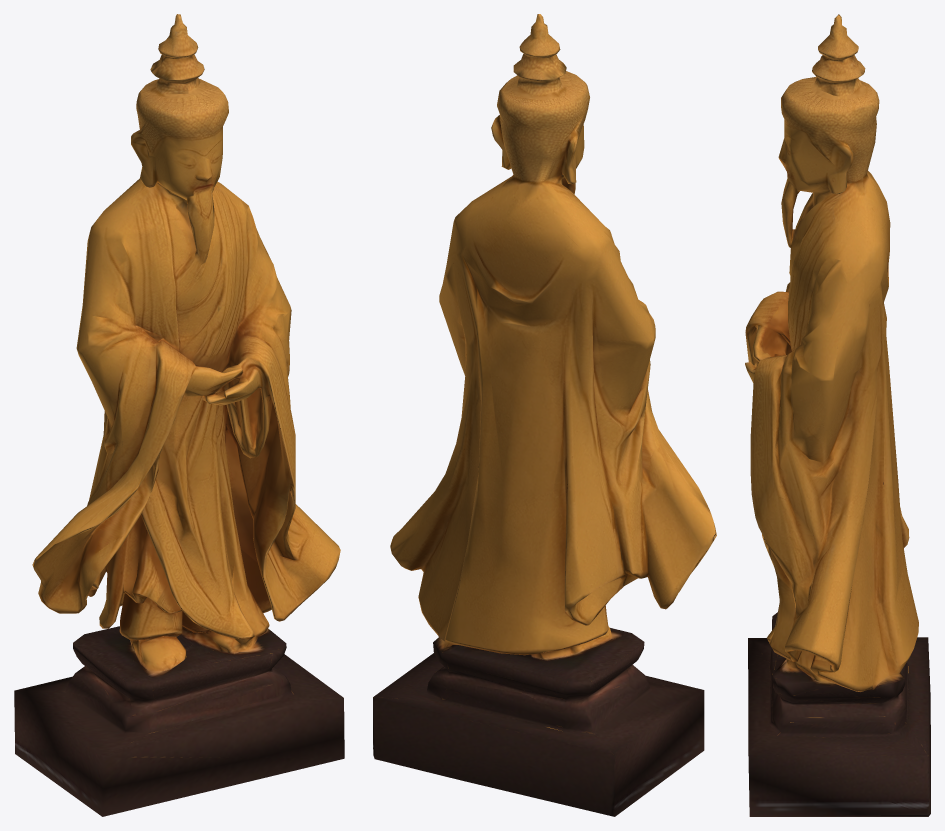
The model's file is thac-thap-la-han.glb.
3 renders of one model, left to right at view 1: azimuth 30°, elevation 25°; view 2: azimuth 150°, elevation 25°; view 3: azimuth 270°, elevation 25°, orthographic.
Size of the model in its own units: 0.8362 by 1.9 by 0.4293.
1 material, 1 textured.
